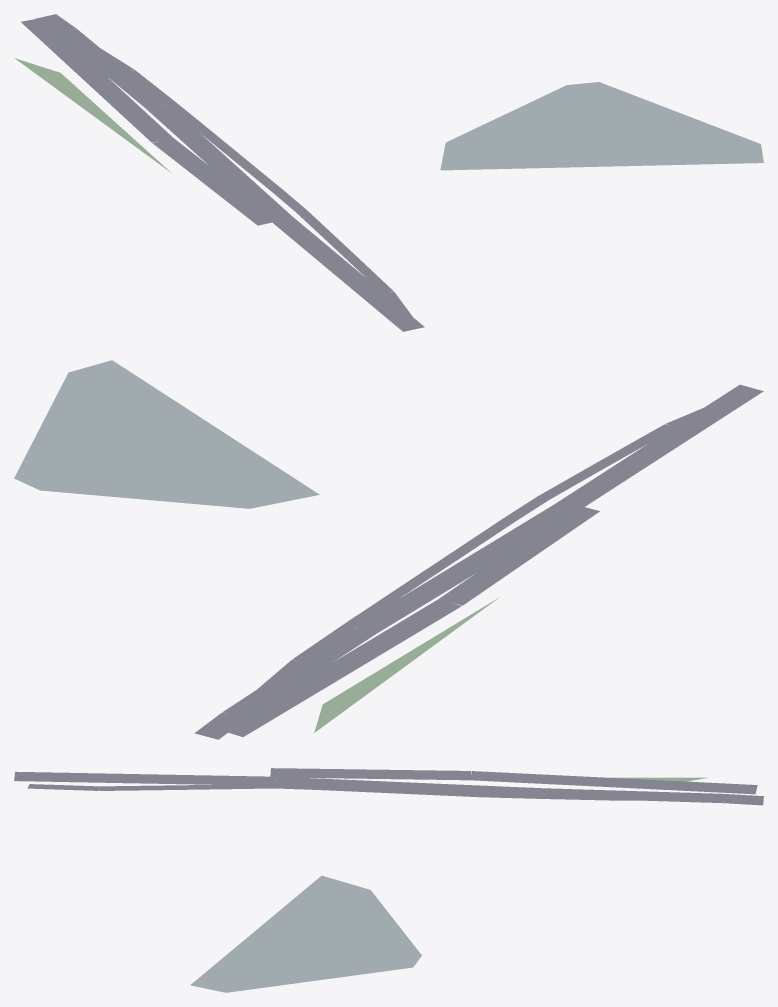
Rendered from 124_118_mid.glb.
The picture shows the model from 3 angles, top to bottom: view 1: azimuth 30°, elevation 25°; view 2: azimuth 150°, elevation 25°; view 3: azimuth 270°, elevation 25°; orthographic projection. The views are drawn at different scales.
Size of the model in its own units: 315 by 11.89 by 476.
